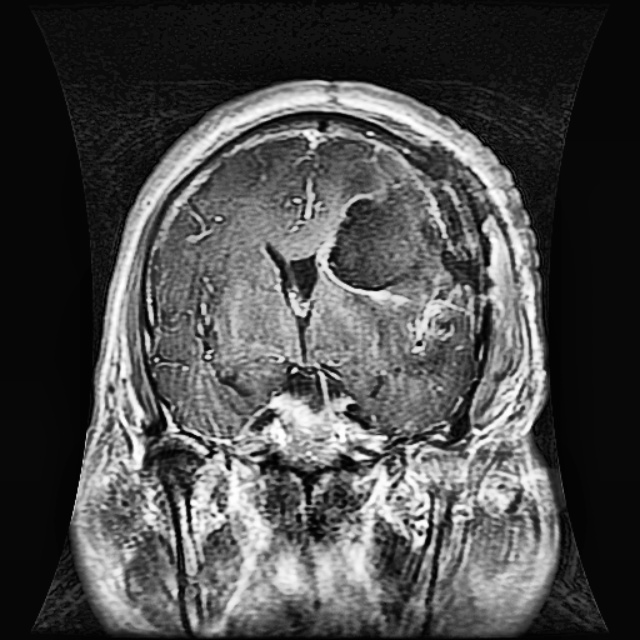Glioma: (314, 149, 479, 365)
